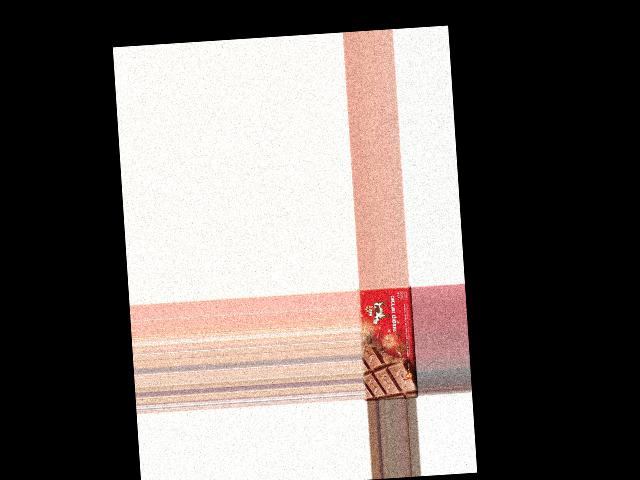chocolate: (357, 284, 418, 400)
